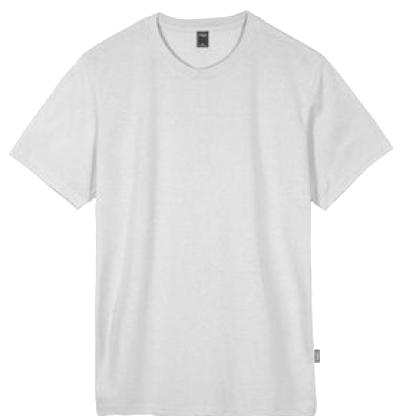dress: (8, 5, 400, 416)
